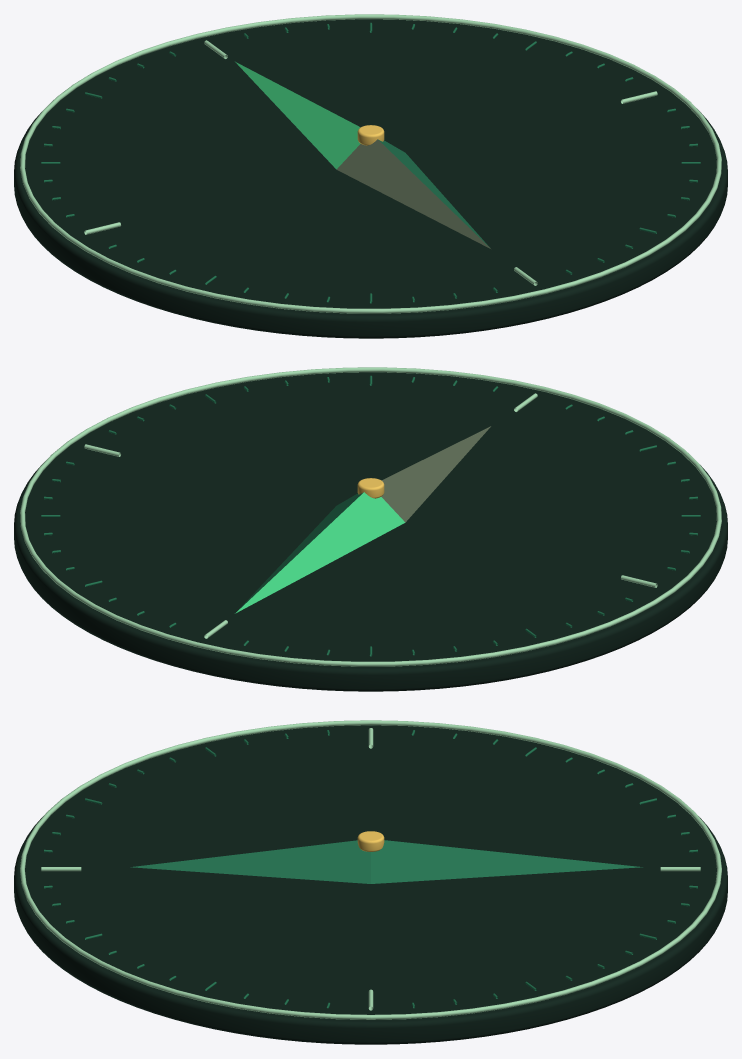
Rendered from compass.glb.
3 views of the same model, one above another, from view 1: azimuth 30°, elevation 25°; view 2: azimuth 150°, elevation 25°; view 3: azimuth 270°, elevation 25° (orthographic).
Parts seen in each view (by area): view 1: PF_Compass / merged, PF_CompassNeedle / merged; view 2: PF_Compass / merged, PF_CompassNeedle / merged; view 3: PF_Compass / merged, PF_CompassNeedle / merged.
Boxes of the visible parts, x1,y1,x2,y2 form: PF_Compass / merged: [14, 14, 727, 338]; PF_CompassNeedle / merged: [235, 61, 490, 248]; PF_Compass / merged: [14, 367, 727, 691]; PF_CompassNeedle / merged: [235, 426, 490, 613]; PF_Compass / merged: [14, 720, 727, 1044]; PF_CompassNeedle / merged: [130, 840, 642, 883].
Size of the model in its own units: 3.4 by 0.315 by 3.4.
